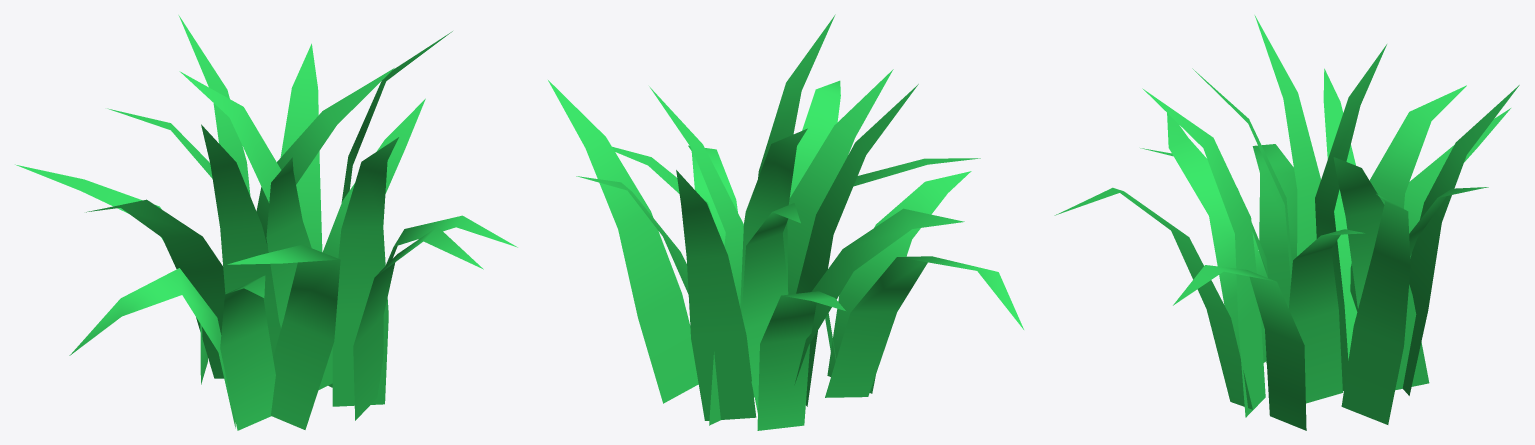
The model's file is grass_clump.glb.
3 views of the same model, side by side, from view 1: azimuth 30°, elevation 25°; view 2: azimuth 150°, elevation 25°; view 3: azimuth 270°, elevation 25° (orthographic).
Parts seen in each view (by area): view 1: GrassBlade.016; view 2: GrassBlade.016; view 3: GrassBlade.016.
Boxes of the visible parts, bbox=[...] form: GrassBlade.016: bbox=[15, 15, 517, 430]; GrassBlade.016: bbox=[548, 14, 1023, 430]; GrassBlade.016: bbox=[1054, 15, 1519, 430].
Size of the model in its own units: 2.49 by 1.77 by 2.34.
